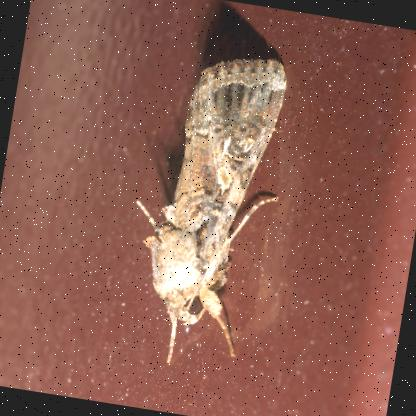Fall Armyworm Moth: (108, 37, 304, 380)
